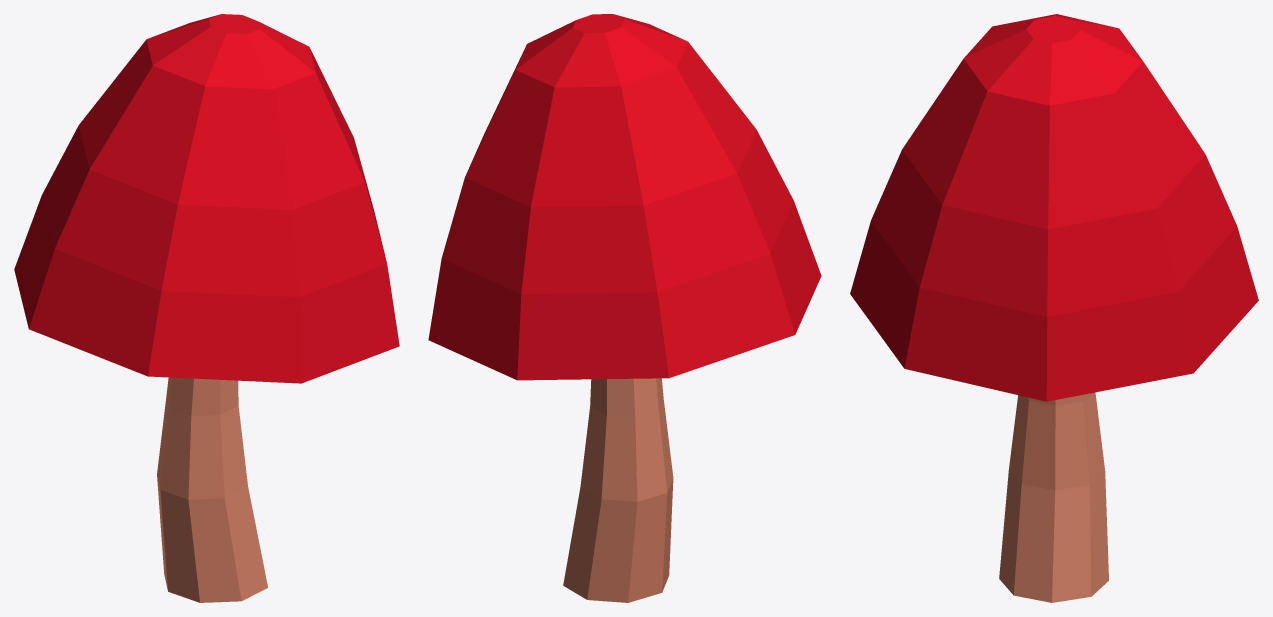
The model's file is RW_mushroom_red.fbx.
3 renders of one model, left to right at view 1: azimuth 30°, elevation 25°; view 2: azimuth 150°, elevation 25°; view 3: azimuth 270°, elevation 25°, orthographic.
Parts seen in each view (by area): view 1: Circle.025; view 2: Circle.025; view 3: Circle.025.
Part boxes in pixels (x1,y1,x2,y2): Circle.025: [14, 14, 399, 602]; Circle.025: [428, 14, 821, 602]; Circle.025: [850, 14, 1258, 602].
Bounding box in the file's own units: 1 × 1.53 × 1.01.
